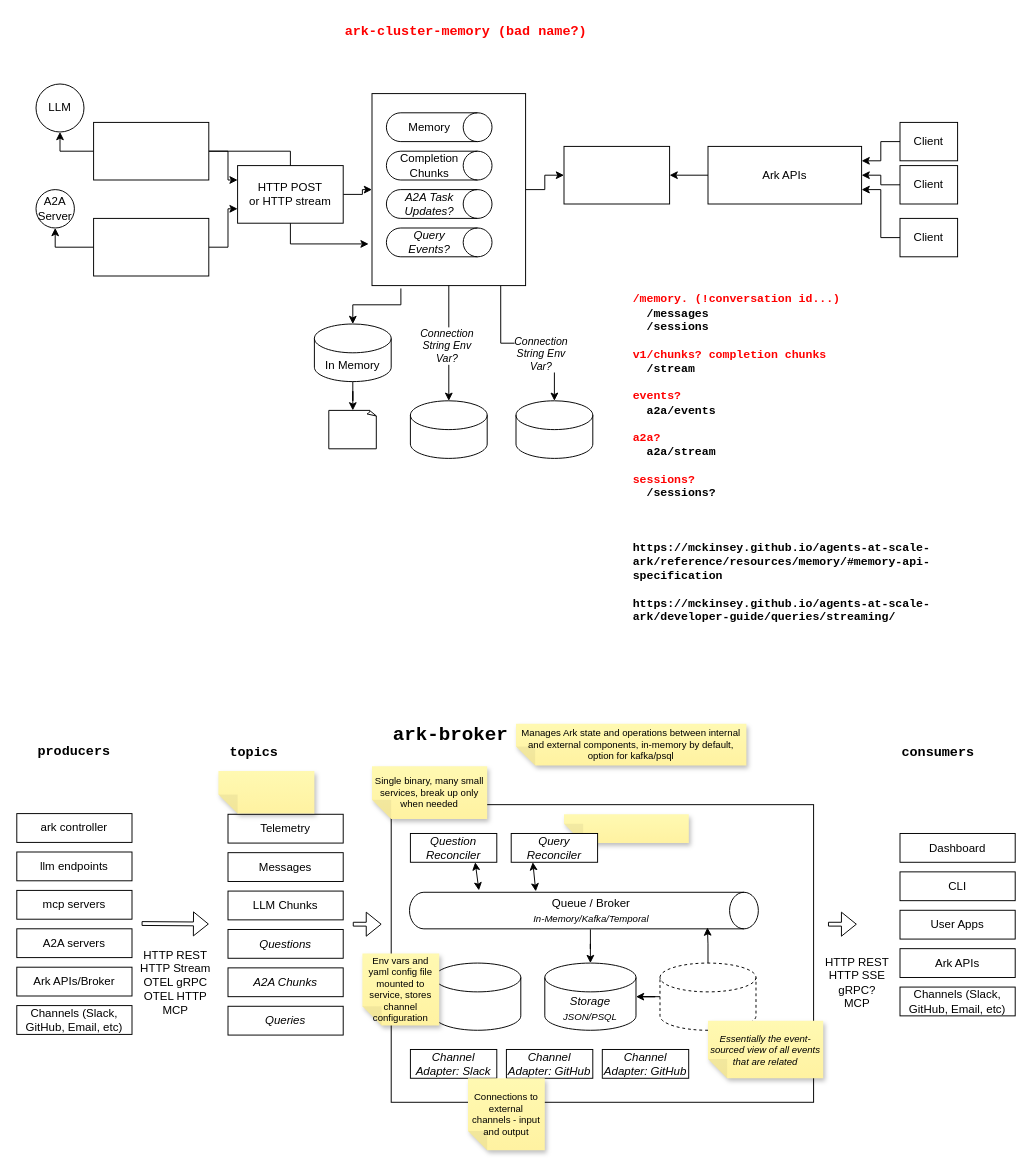
This 1032x1173 diagram has some shape labels left out. Here are the shapes that lost their labels. From the top down, the centre of each, then its label:
At point (151, 150): "Query Controller".
At point (616, 174): "HTTP GET or HTTP stream".
At point (151, 246): "A2A Task Controller".
At point (352, 429): "data.json".
At point (448, 429): "PostgresSQL?".
At point (554, 429): "Kafka?".
At point (267, 793): "The different types of messages ark must broker".
At point (627, 829): "Later: extract query reconciliation from controller".
At point (477, 996): "Broker, Channel and User Config (i.e. v0 IAM)".
At point (707, 996): "Sessions".
